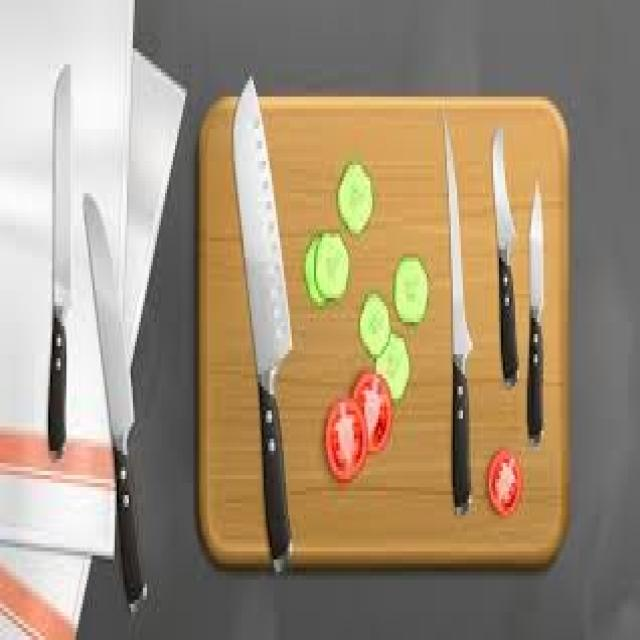Knife: (231, 73, 292, 572), (80, 189, 147, 612), (443, 117, 473, 515), (46, 60, 70, 455), (491, 125, 519, 386), (526, 177, 544, 443)
